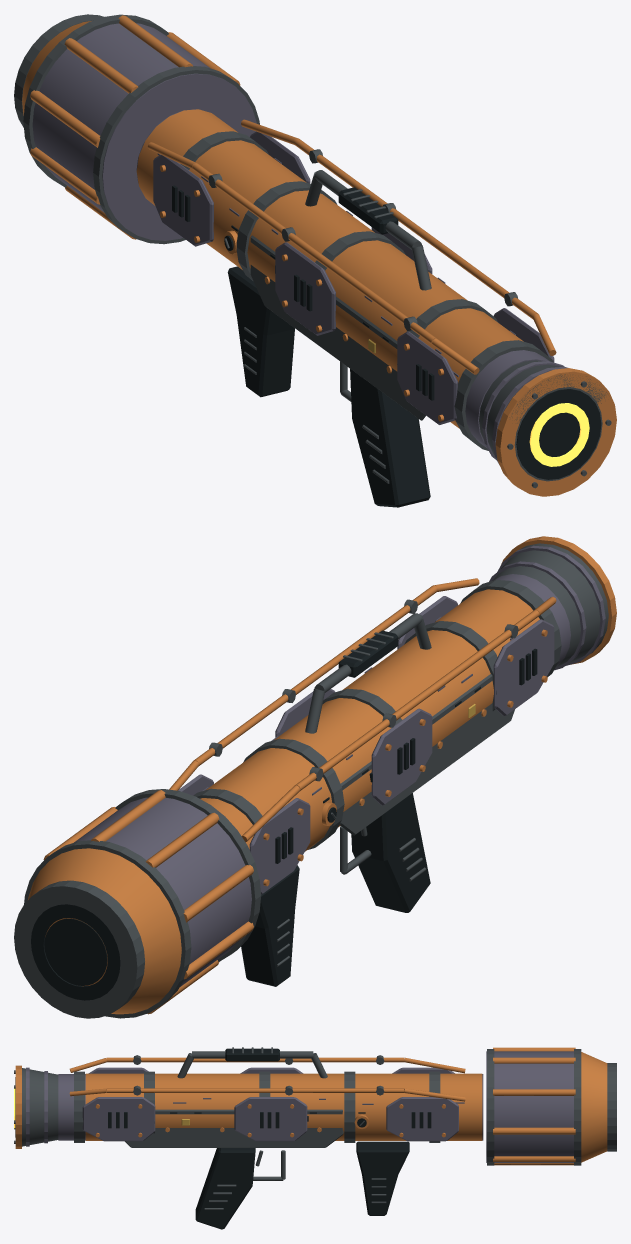
Rendered from heavy_4.glb.
3 renders of one model, top to bottom at view 1: azimuth 30°, elevation 25°; view 2: azimuth 150°, elevation 25°; view 3: azimuth 270°, elevation 25°, orthographic. The views are drawn at different scales.
Visible parts, largest first — view 1: Weapon_heavy_v1; view 2: Weapon_heavy_v1; view 3: Weapon_heavy_v1.
Part boxes in pixels (x1,y1,x2,y2): Weapon_heavy_v1: [14, 14, 616, 507]; Weapon_heavy_v1: [14, 536, 616, 1018]; Weapon_heavy_v1: [14, 1047, 616, 1229].
Size of the model in its own units: 0.195 by 0.318 by 0.993.
